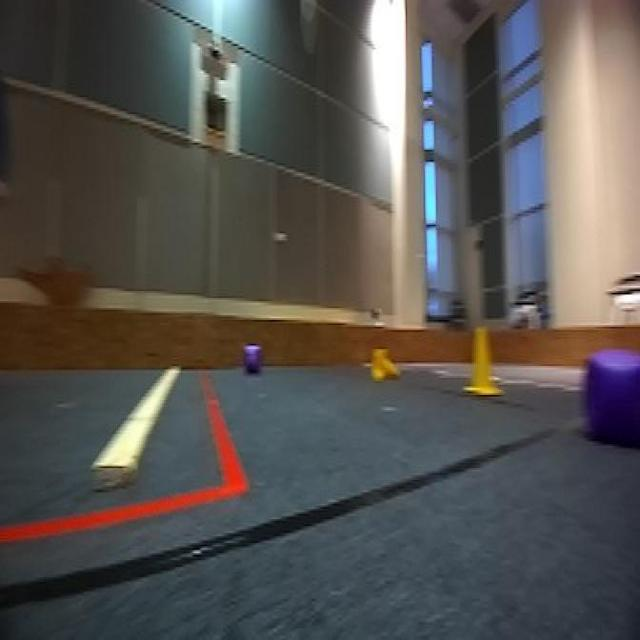frc_cone: (463, 323, 499, 402), (367, 346, 398, 381)
frc_cube: (577, 328, 640, 449), (240, 344, 263, 379)
